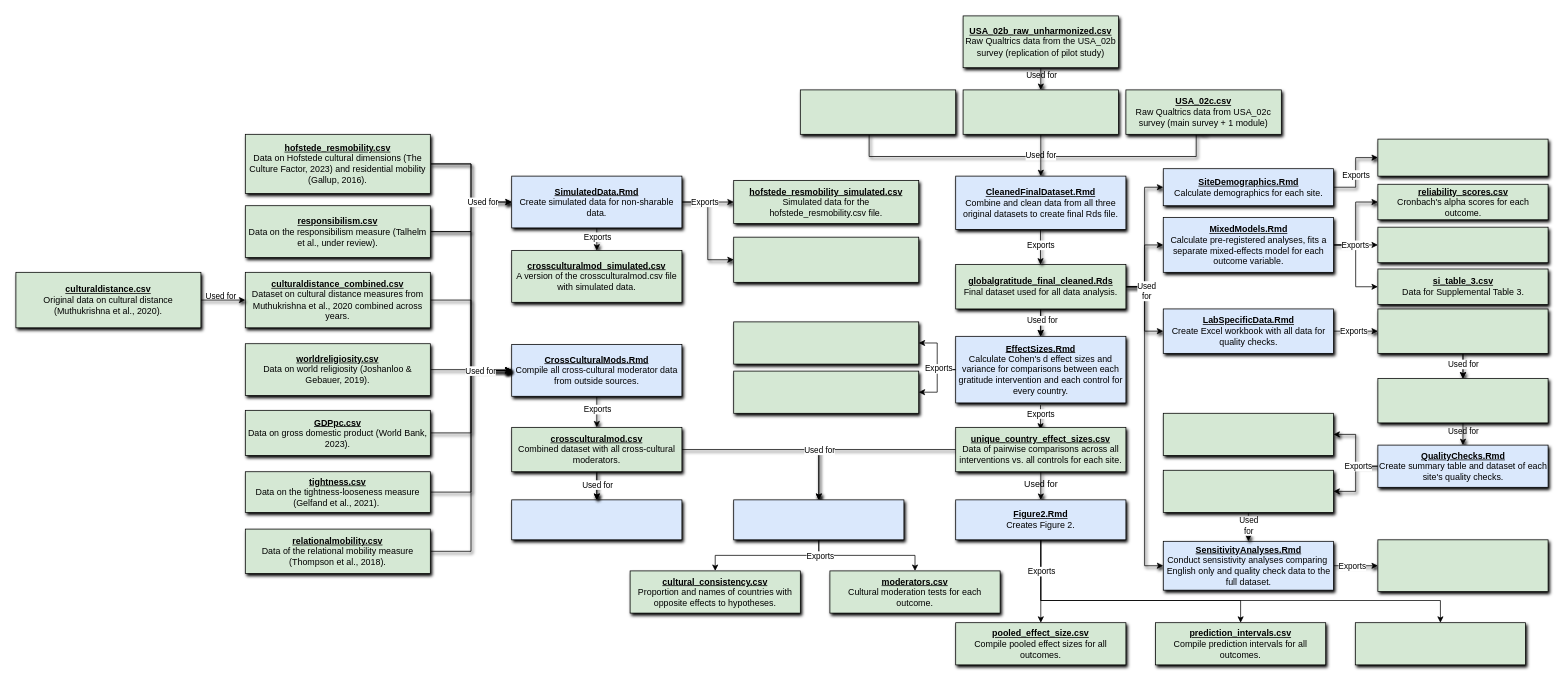
This 1566x683 diagram has some shape labels left out. The centre of each missing label's shape, as x and y in pixels:
"country_effectsizes.csv Compile pooled effect sizes for all countries." belongs at (x=826, y=392).
"Figure1.Rmd Creates Figure 1." belongs at (x=597, y=520).
"Figure3.Rmd Creates Figure 3." belongs at (x=819, y=520).
"globalgratitude_final.Rds Raw Qualtrics data from main survey" belongs at (x=878, y=112).
"intervention_effectsizes.csv Compile pooled effect sizes for all practices." belongs at (x=826, y=343).
"labspecific_data.xlsx Excel workbook with survey responses divided by site." belongs at (x=1463, y=332).
"overall_heterogeneity.csv Compile overall heterogeneity values for all outcomes." belongs at (x=1441, y=644).
"QC_globalgratitude_final_cleaned.Rds Dataset with problematic data removed." belongs at (x=1249, y=492).
"qualitychecks.xlxs Excel workbook with completed quality checks." belongs at (x=1463, y=401).
"qualitychecks_summary.xlsx Summary table of quality checks." belongs at (x=1249, y=435).
"responsibilism_simulated.csv Simulated data for the responsibilism.csv file." belongs at (x=826, y=260).
"si_regression_ouput.csv Data for Supplemental Information." belongs at (x=1463, y=245).
"si_table_1.csv Data for Supplemental Table 1." belongs at (x=1463, y=158).
"si_table_4.csv Data for Supplemental Table 4." belongs at (x=1463, y=566).
"USA_02b_raw_harmonized.csv Harmonized to match with global_gratitude_final.Rds" belongs at (x=1041, y=112).
